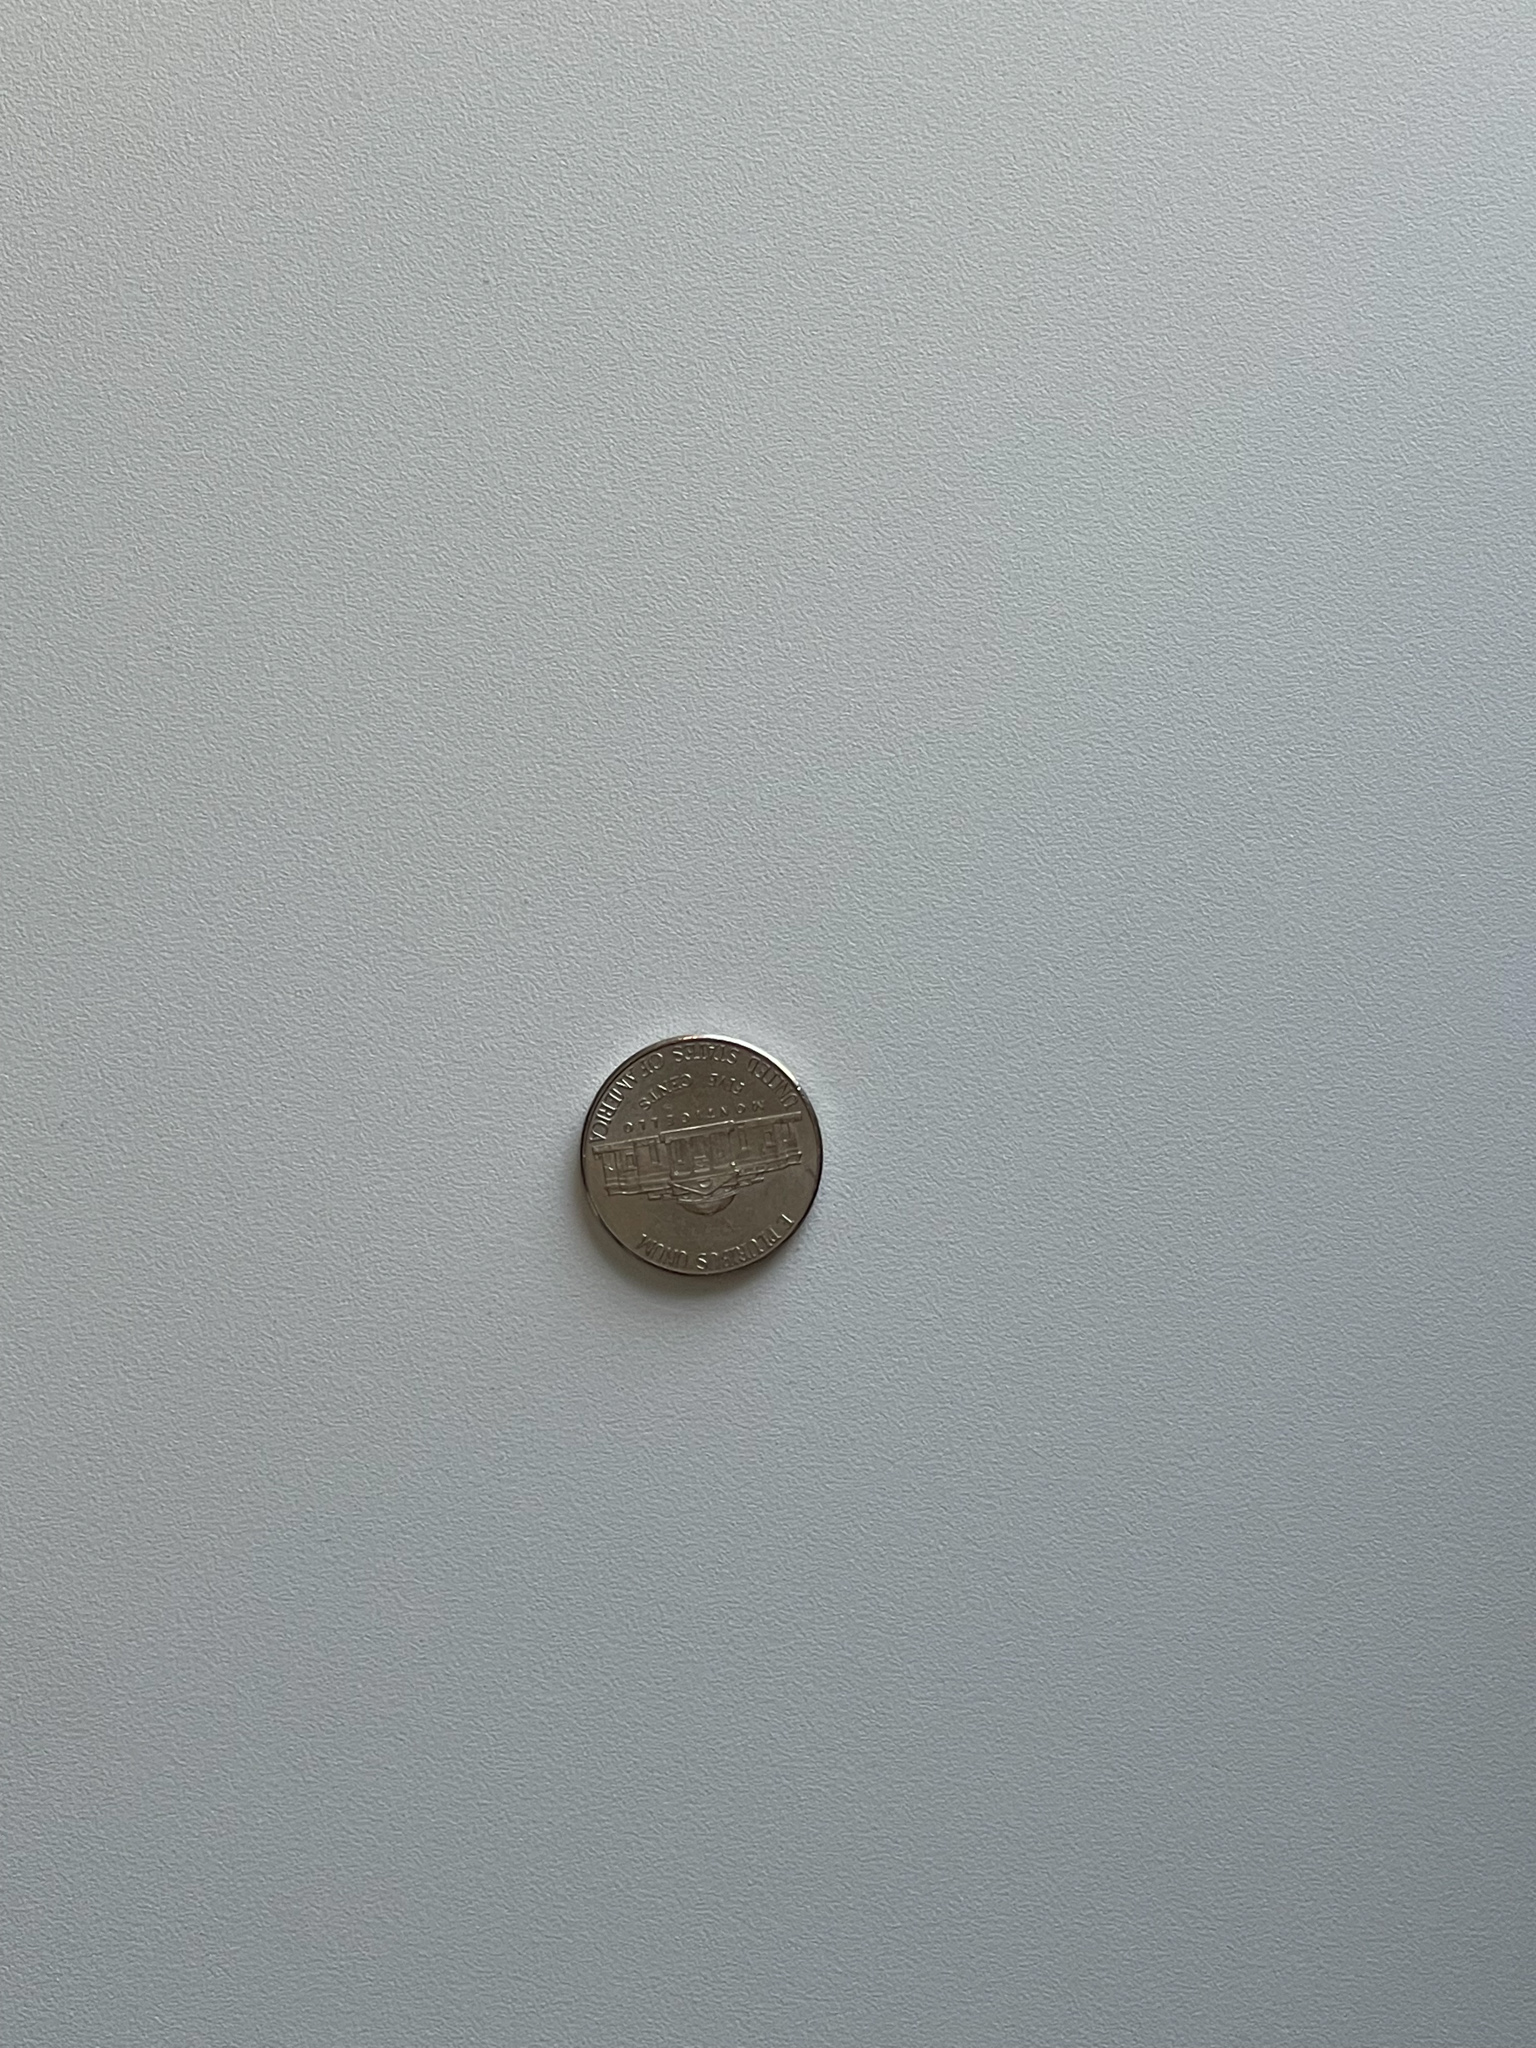nickel: (573, 1027, 829, 1285)
